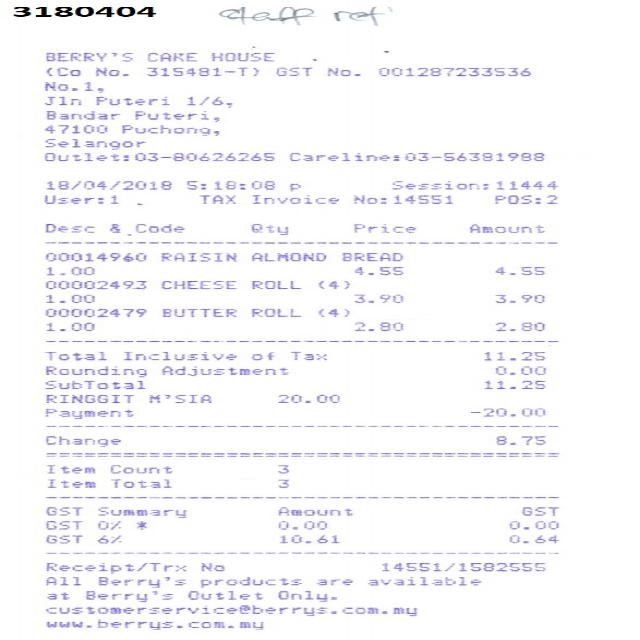text: (42, 604, 334, 616), (287, 152, 542, 160), (42, 152, 272, 160), (95, 618, 260, 629), (11, 5, 153, 16), (44, 562, 183, 573), (376, 66, 528, 76), (380, 561, 543, 570), (160, 366, 287, 376), (44, 179, 169, 189), (41, 365, 145, 377), (196, 576, 300, 587), (42, 138, 143, 149), (122, 350, 233, 360), (146, 66, 256, 76), (119, 124, 216, 135), (83, 589, 170, 601), (365, 576, 478, 585), (95, 506, 183, 517), (95, 576, 183, 587), (40, 435, 120, 447), (44, 407, 130, 418), (392, 179, 486, 189), (41, 252, 145, 261), (41, 280, 145, 289), (41, 307, 145, 316), (132, 110, 216, 121), (351, 194, 449, 203), (44, 380, 142, 389), (185, 179, 272, 189), (44, 51, 130, 61), (252, 194, 337, 203), (349, 222, 412, 234), (274, 589, 334, 601), (44, 394, 130, 402), (42, 110, 118, 119), (40, 194, 116, 203), (248, 252, 324, 261), (158, 252, 233, 261), (158, 280, 233, 289), (275, 506, 350, 515), (469, 223, 543, 232), (186, 590, 260, 599), (42, 80, 102, 91), (160, 307, 233, 316), (492, 434, 546, 446), (42, 350, 104, 360), (483, 350, 543, 360), (109, 478, 169, 488), (92, 96, 166, 104), (497, 179, 556, 189), (469, 407, 542, 415), (42, 124, 104, 133), (493, 194, 554, 203), (339, 252, 400, 261), (484, 380, 543, 389), (278, 534, 336, 543), (183, 96, 230, 107), (208, 52, 272, 60), (42, 222, 92, 232), (276, 394, 337, 402), (147, 394, 208, 402), (108, 464, 169, 472), (133, 222, 181, 232), (505, 534, 556, 543), (248, 280, 298, 289), (248, 307, 298, 316), (494, 366, 544, 375), (44, 266, 92, 275), (276, 520, 324, 529), (507, 520, 555, 529), (491, 294, 543, 302), (46, 478, 92, 487), (42, 294, 92, 302), (250, 223, 286, 234), (146, 52, 194, 60), (352, 266, 400, 274), (494, 266, 542, 274), (352, 294, 400, 302), (44, 322, 92, 330), (494, 322, 542, 330), (352, 322, 400, 330), (46, 464, 94, 472), (289, 350, 325, 360), (519, 506, 557, 515), (274, 66, 308, 76), (325, 66, 358, 76), (338, 606, 385, 613), (44, 506, 80, 515), (44, 534, 80, 543), (42, 576, 78, 585), (45, 66, 77, 76), (93, 66, 125, 76), (40, 96, 80, 104), (198, 194, 232, 203), (45, 620, 88, 627), (315, 307, 348, 316), (44, 520, 80, 528), (315, 280, 348, 288), (248, 350, 272, 361), (315, 578, 351, 585), (392, 606, 414, 616), (95, 520, 118, 529), (97, 534, 120, 543), (44, 591, 68, 599), (200, 562, 222, 570), (286, 182, 298, 191), (108, 222, 118, 232), (276, 478, 286, 487), (134, 520, 144, 529), (276, 464, 286, 472)
